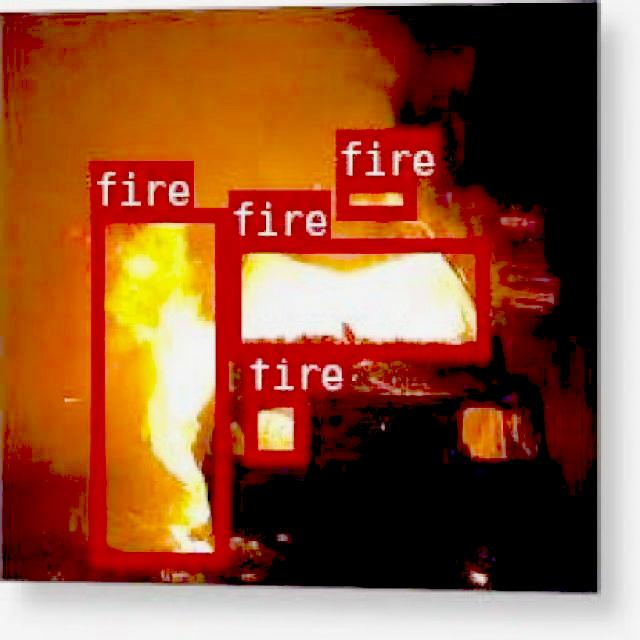fire: (89, 206, 223, 563), (228, 238, 484, 354), (242, 392, 302, 461), (335, 176, 413, 215)
